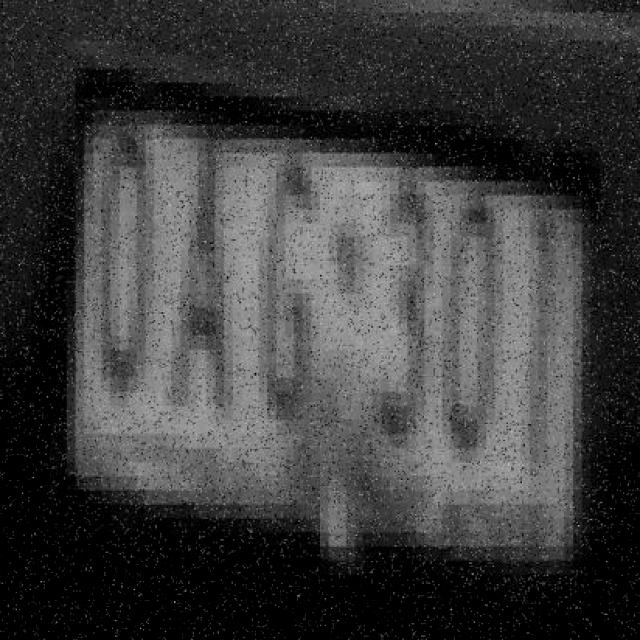licenseplate: (32, 35, 593, 599)
